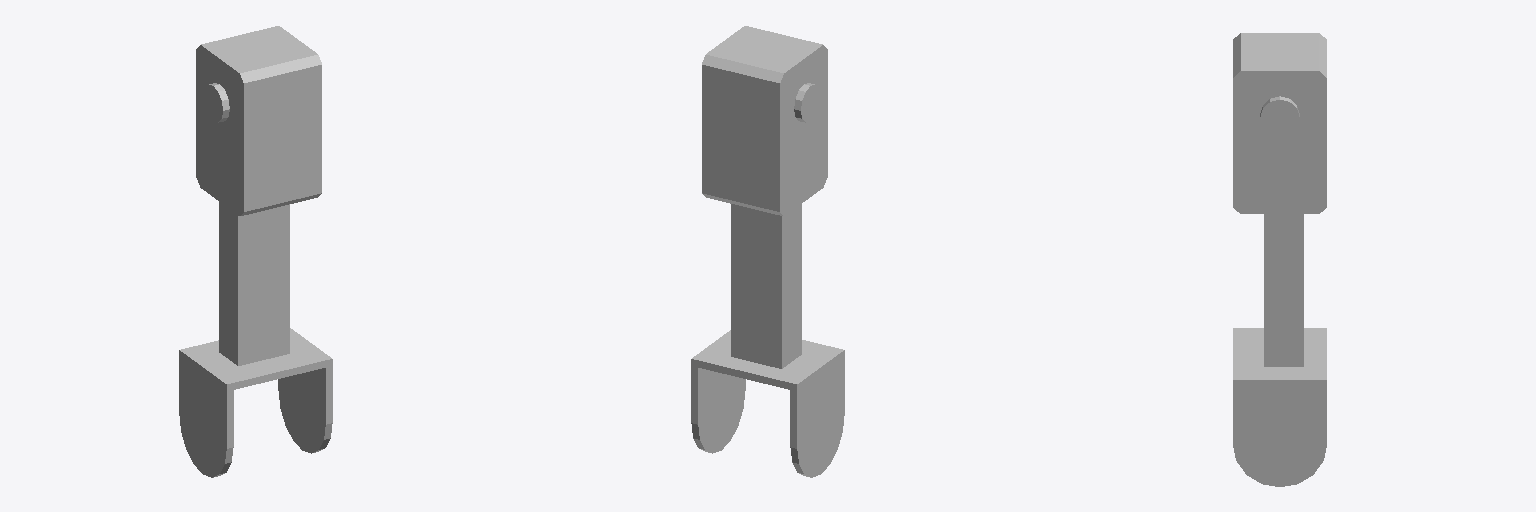
Rendered from rightLeg3.obj.
3 views of the same model, side by side, from view 1: azimuth 30°, elevation 25°; view 2: azimuth 150°, elevation 25°; view 3: azimuth 270°, elevation 25° (orthographic).
Visible parts, largest first — view 1: unnamed_object1; view 2: unnamed_object1; view 3: unnamed_object1.
Part boxes in pixels (bbox=[...]): unnamed_object1: bbox=[179, 26, 332, 477]; unnamed_object1: bbox=[691, 26, 844, 477]; unnamed_object1: bbox=[1233, 33, 1326, 486].
Size of the model in its own units: 7.75 by 28.75 by 6.